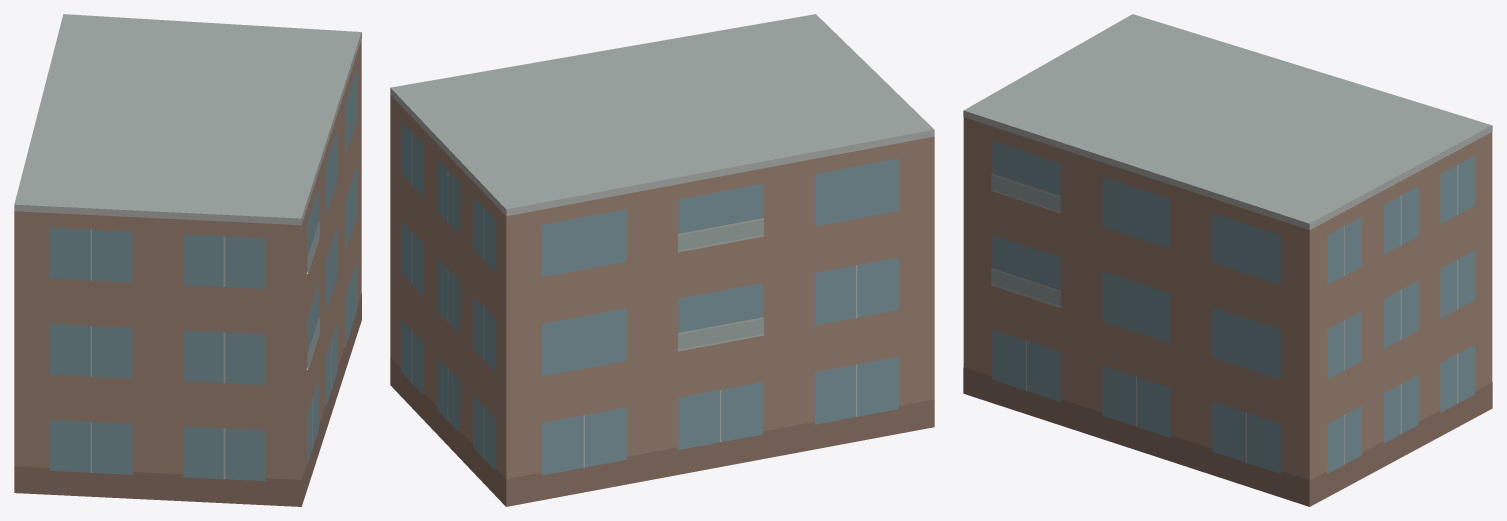
The model's file is survey-upis-32887068.glb.
3 views of the same model, side by side, from view 1: azimuth 30°, elevation 25°; view 2: azimuth 150°, elevation 25°; view 3: azimuth 270°, elevation 25° (orthographic). The views are drawn at different scales.
Parts seen in each view (by area): view 1: survey-upis-32887068.tmp; view 2: survey-upis-32887068.tmp; view 3: survey-upis-32887068.tmp.
Part boxes in pixels (bbox=[...]): survey-upis-32887068.tmp: bbox=[14, 14, 361, 506]; survey-upis-32887068.tmp: bbox=[390, 14, 934, 506]; survey-upis-32887068.tmp: bbox=[963, 14, 1492, 506].
Bounding box in the file's own units: 16.85 × 10.6 × 17.95.
